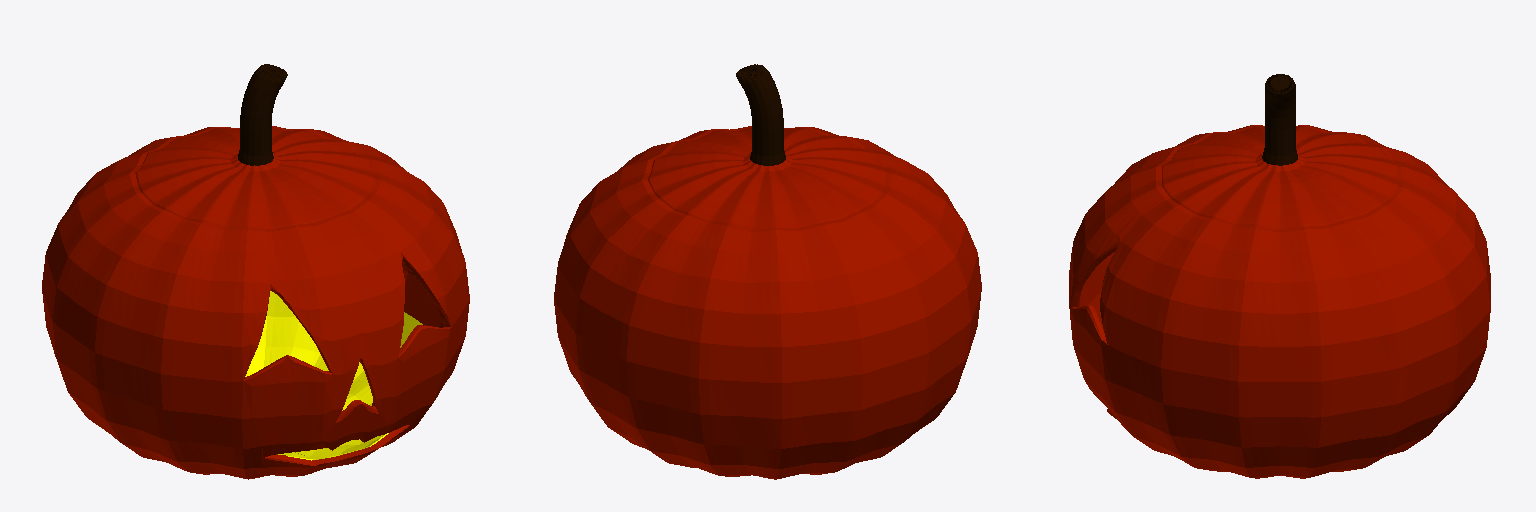
File: single_pumpkin.obj
3 views of the same model, side by side, from view 1: azimuth 30°, elevation 25°; view 2: azimuth 150°, elevation 25°; view 3: azimuth 270°, elevation 25° (orthographic).
Parts seen in each view (by area): view 1: Sphere.001, Sphere; view 2: Sphere.001, Sphere; view 3: Sphere.001, Sphere.
Boxes of the visible parts, box(x1,y1,x2,y2) form: Sphere.001: box(42, 126, 469, 479); Sphere: box(135, 64, 375, 228); Sphere.001: box(554, 126, 981, 479); Sphere: box(648, 64, 887, 228); Sphere.001: box(1069, 125, 1490, 478); Sphere: box(1162, 74, 1398, 228).
Bounding box in the file's own units: 5.71 × 5.56 × 5.72.